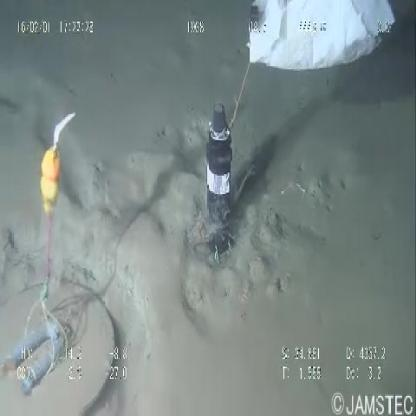Rov: (1, 94, 240, 416)
Rác: (246, 2, 400, 78)
